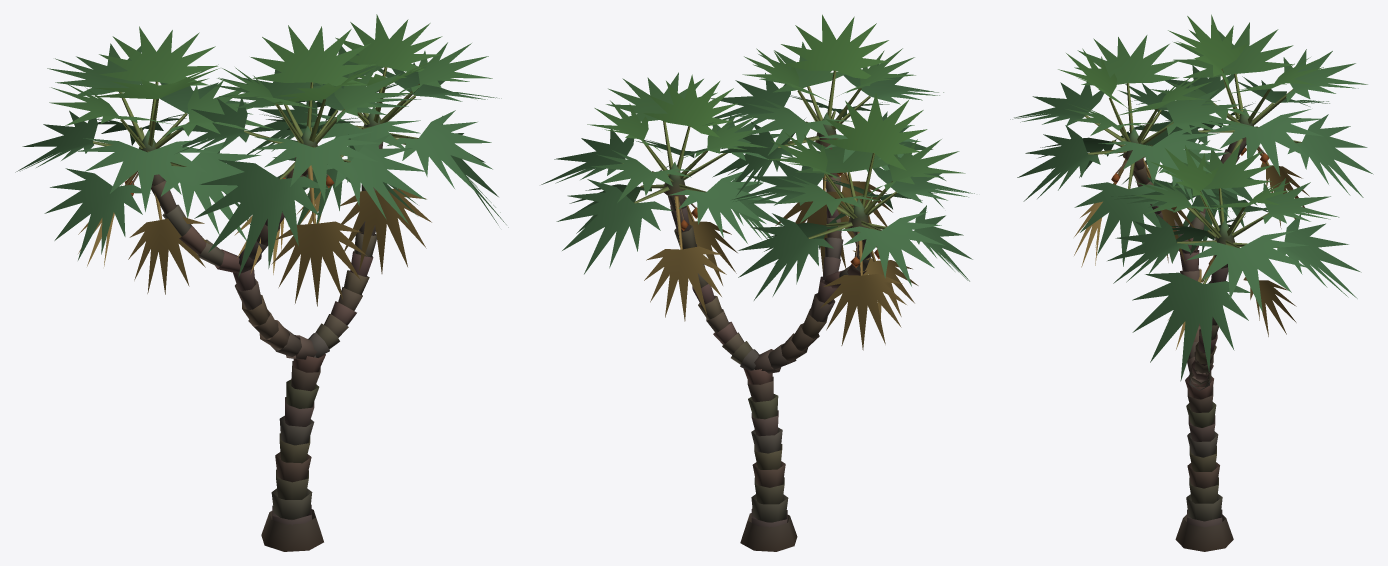
File: palm_doum.glb
3 views of the same model, side by side, from view 1: azimuth 30°, elevation 25°; view 2: azimuth 150°, elevation 25°; view 3: azimuth 270°, elevation 25° (orthographic). The views are drawn at different scales.
Parts seen in each view (by area): view 1: palm_doum; view 2: palm_doum; view 3: palm_doum.
Part boxes in pixels (x1=…): palm_doum: x1=15, y1=14, x2=508, y2=551; palm_doum: x1=541, y1=14, x2=974, y2=551; palm_doum: x1=1010, y1=14, x2=1373, y2=551.
Size of the model in its own units: 9.3 by 10.27 by 7.27.
